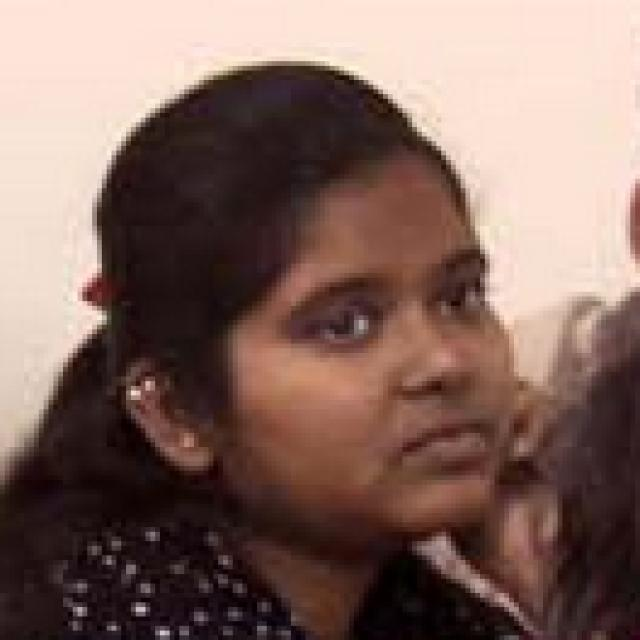Attentive: (228, 170, 516, 533)
